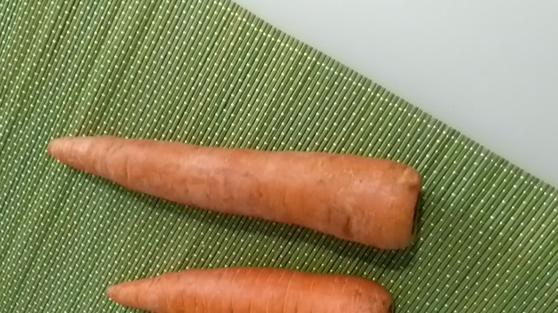carrot: (47, 122, 426, 256), (109, 264, 400, 313)
